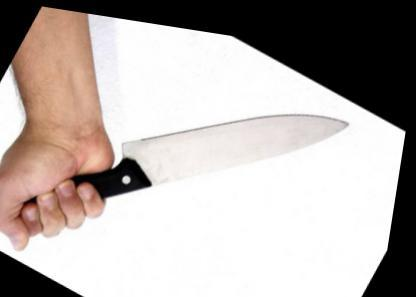knife: (27, 7, 371, 295)
